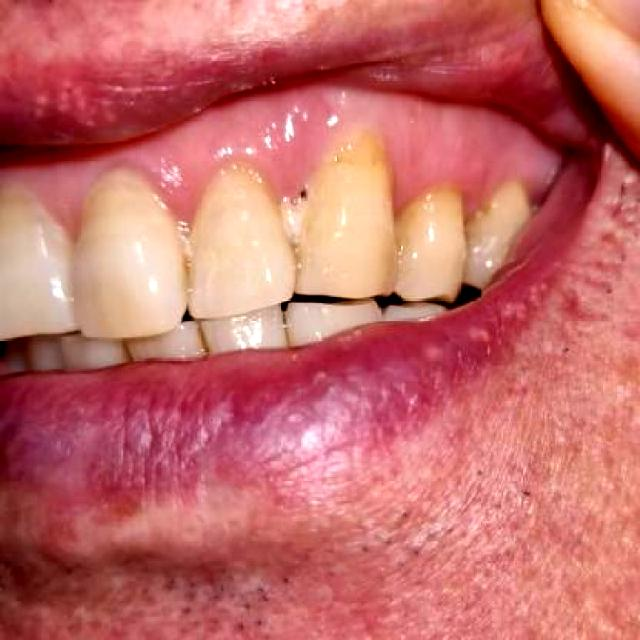Plaque: (289, 180, 321, 206)
